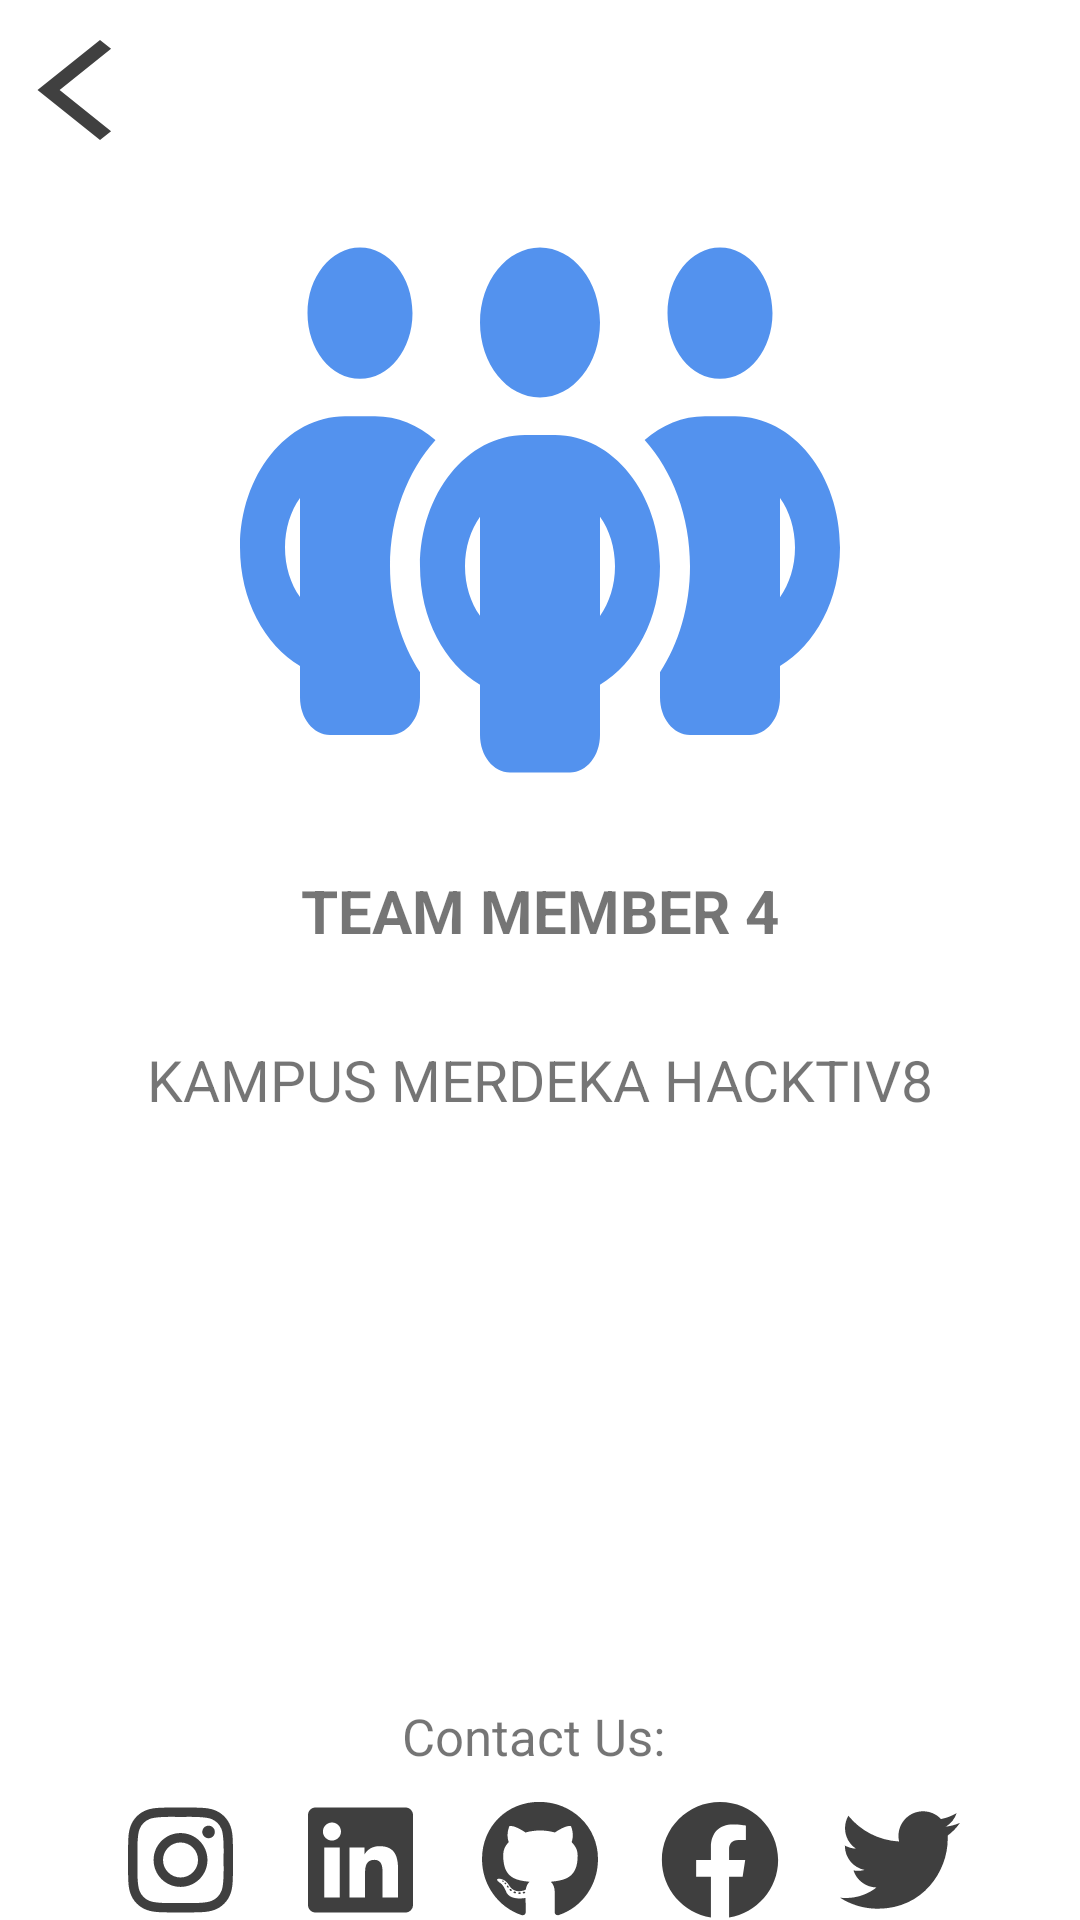

Screen size 1080w x 1920h. Icon name, then its center in pixels as [x,y]:
go back: [74,90]
